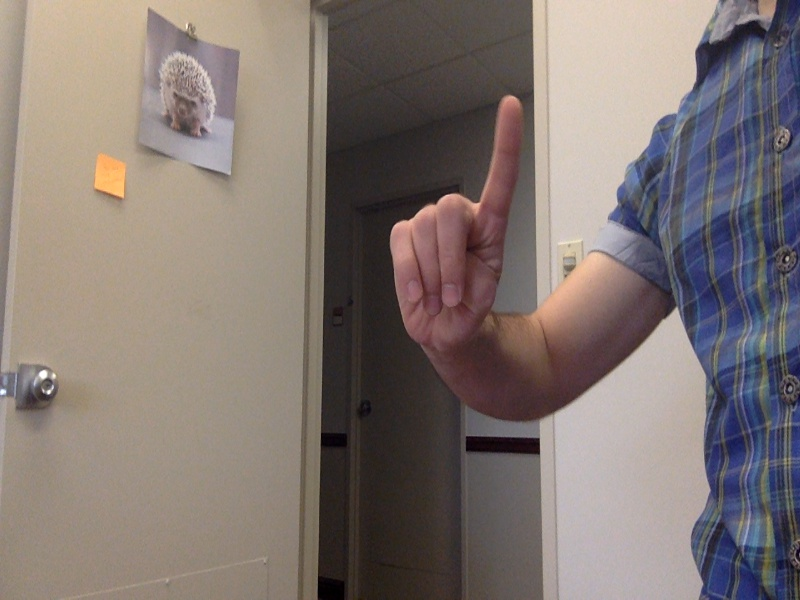1-hand: (384, 94, 524, 350)
